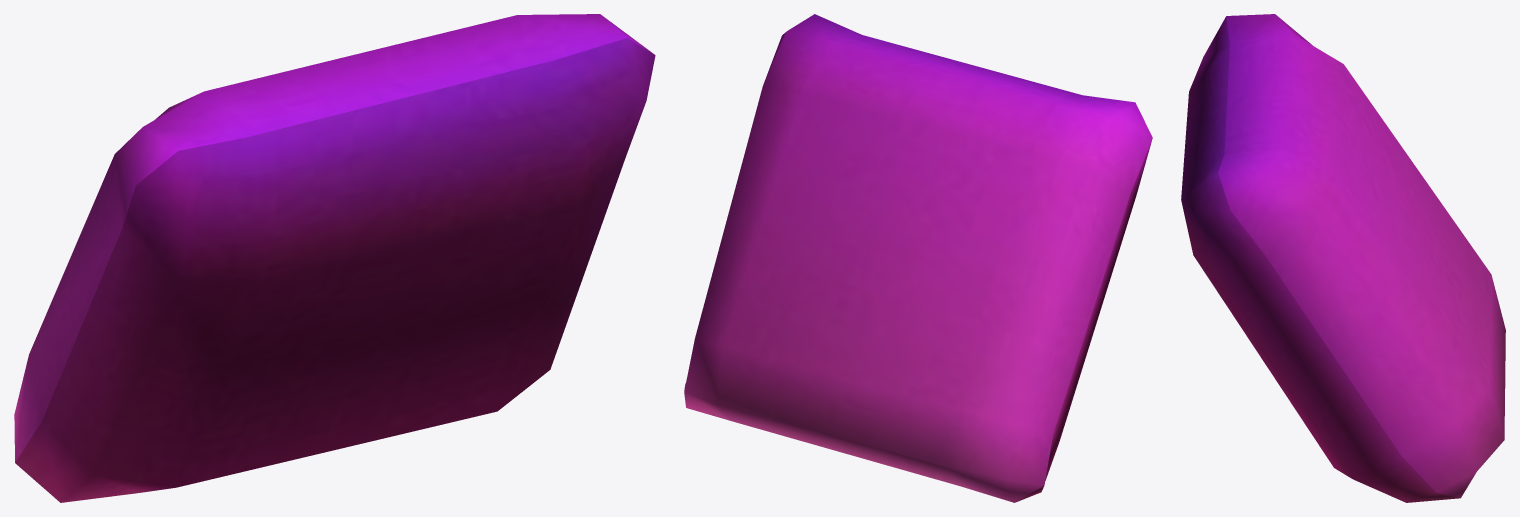
Rendered from cleanSofaCushion2.glb.
3 renders of one model, left to right at view 1: azimuth 30°, elevation 25°; view 2: azimuth 150°, elevation 25°; view 3: azimuth 270°, elevation 25°, orthographic. The views are drawn at different scales.
Parts seen in each view (by area): view 1: cleanCushion2; view 2: cleanCushion2; view 3: cleanCushion2.
Part boxes in pixels (x1,y1,x2,y2): cleanCushion2: (14, 14, 655, 502); cleanCushion2: (684, 14, 1152, 502); cleanCushion2: (1181, 14, 1505, 502).
Size of the model in its own units: 0.6626 by 0.568 by 0.4808.
1 material, 1 textured.
